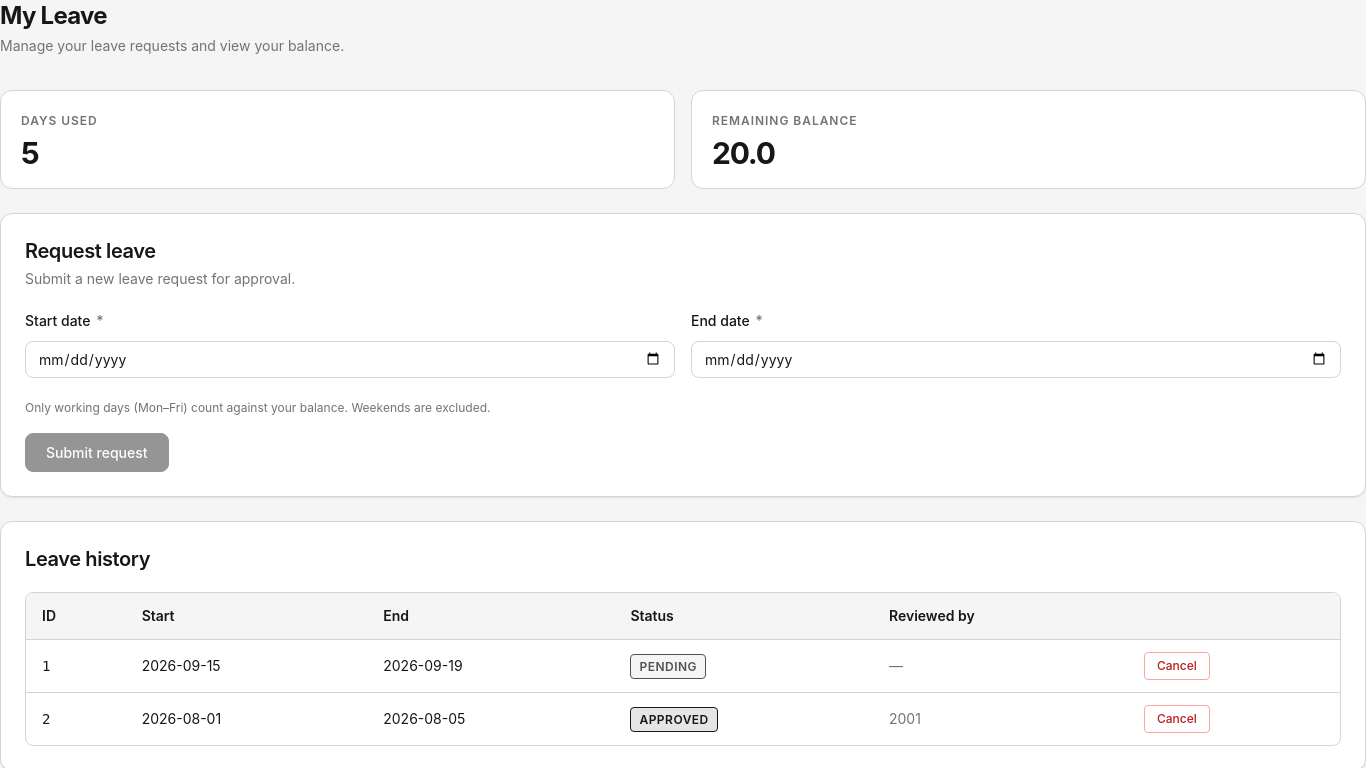
it: MyLeavePage — cancel action › closes modal and shows success toast after confirming cancellation
Click the button with aria-label "cancel leave" at (1177, 666), box [1144,652,1210,680]
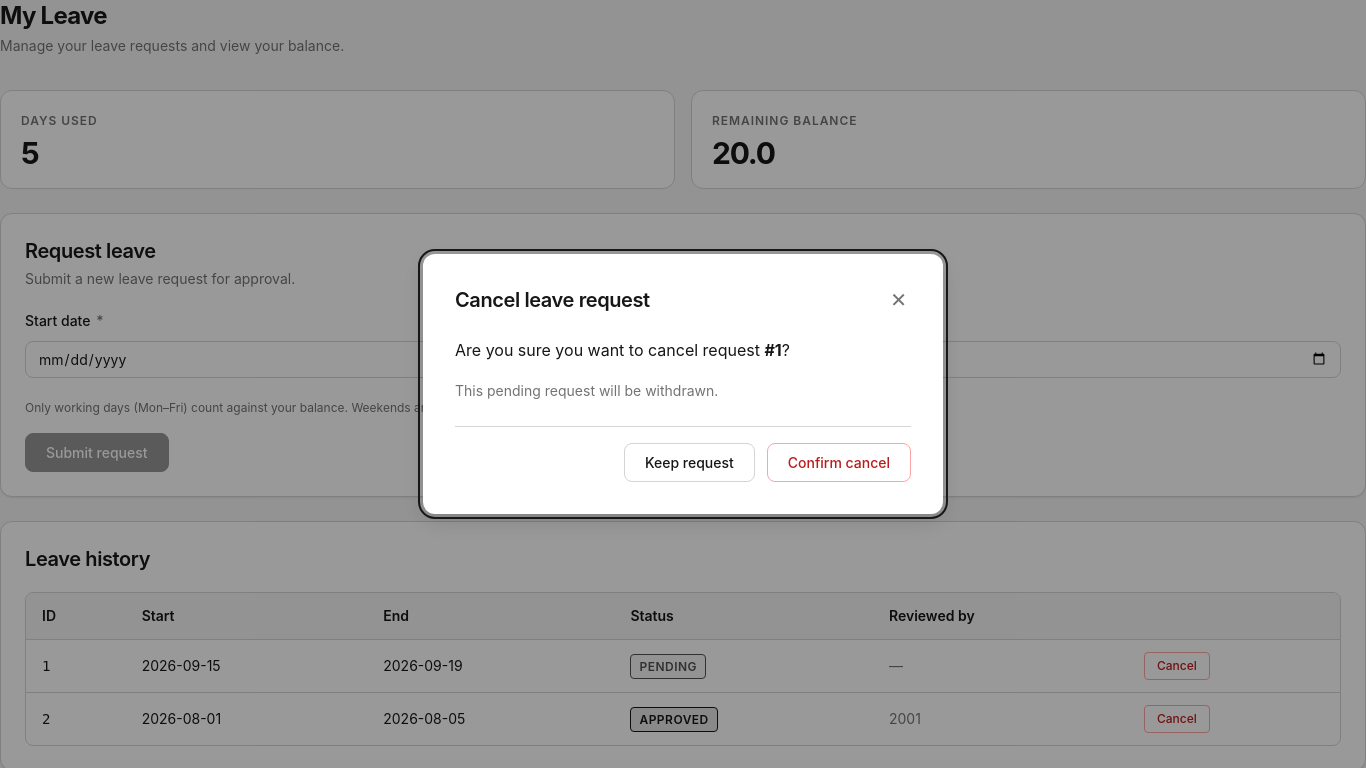
Click the button "Confirm cancel" at (839, 462), box [767,443,911,482]
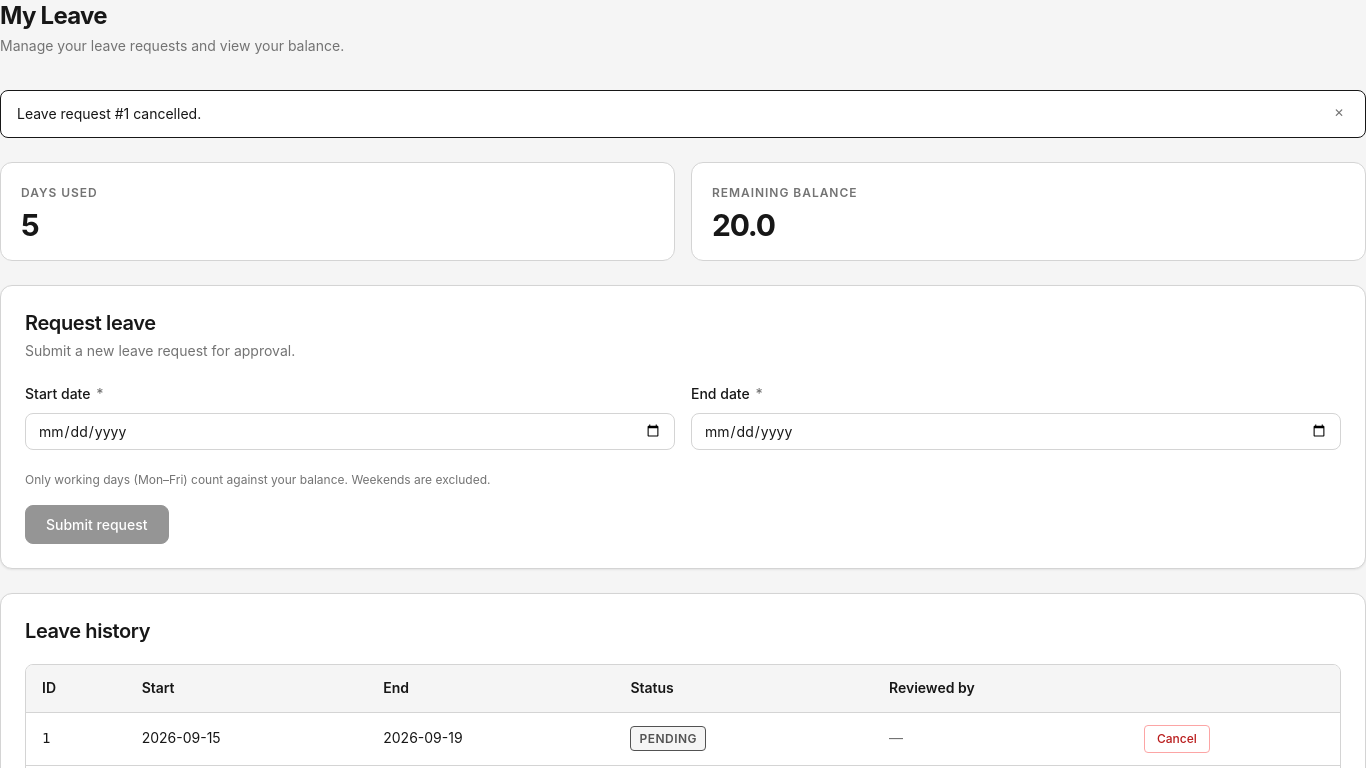
Expected: the dialog is gone
Expected: the text "Leave request #1 cancelled." is shown, [17,105,201,122]
